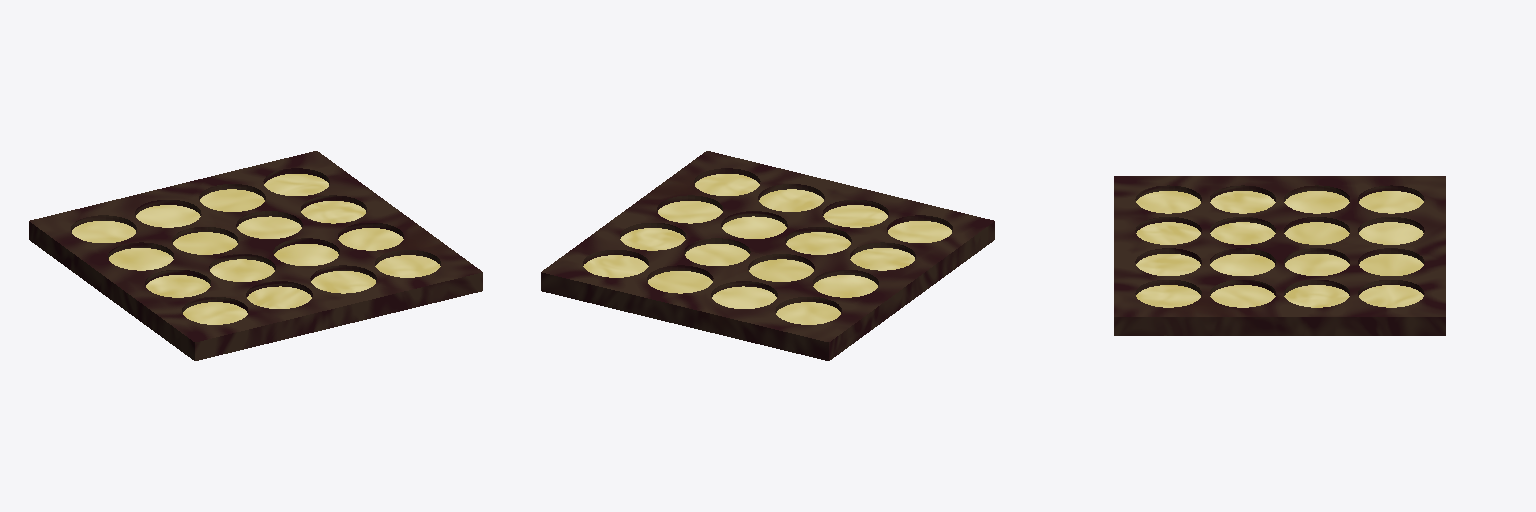
3 renders of one model, left to right at view 1: azimuth 30°, elevation 25°; view 2: azimuth 150°, elevation 25°; view 3: azimuth 270°, elevation 25°, orthographic.
Visible parts, largest first — view 1: board_black, board_Cube.004; view 2: board_black, board_Cube.004; view 3: board_black, board_Cube.004.
Part boxes in pixels (x1,y1,x2,y2): board_black: (29,151,482,360); board_Cube.004: (72,174,440,324); board_black: (541,151,994,360); board_Cube.004: (583,174,951,324); board_black: (1114,176,1445,335); board_Cube.004: (1136,191,1423,307).
Size of the model in its own units: 1.12 by 0.07 by 1.12.
Materials: 2 (2 with a texture image).